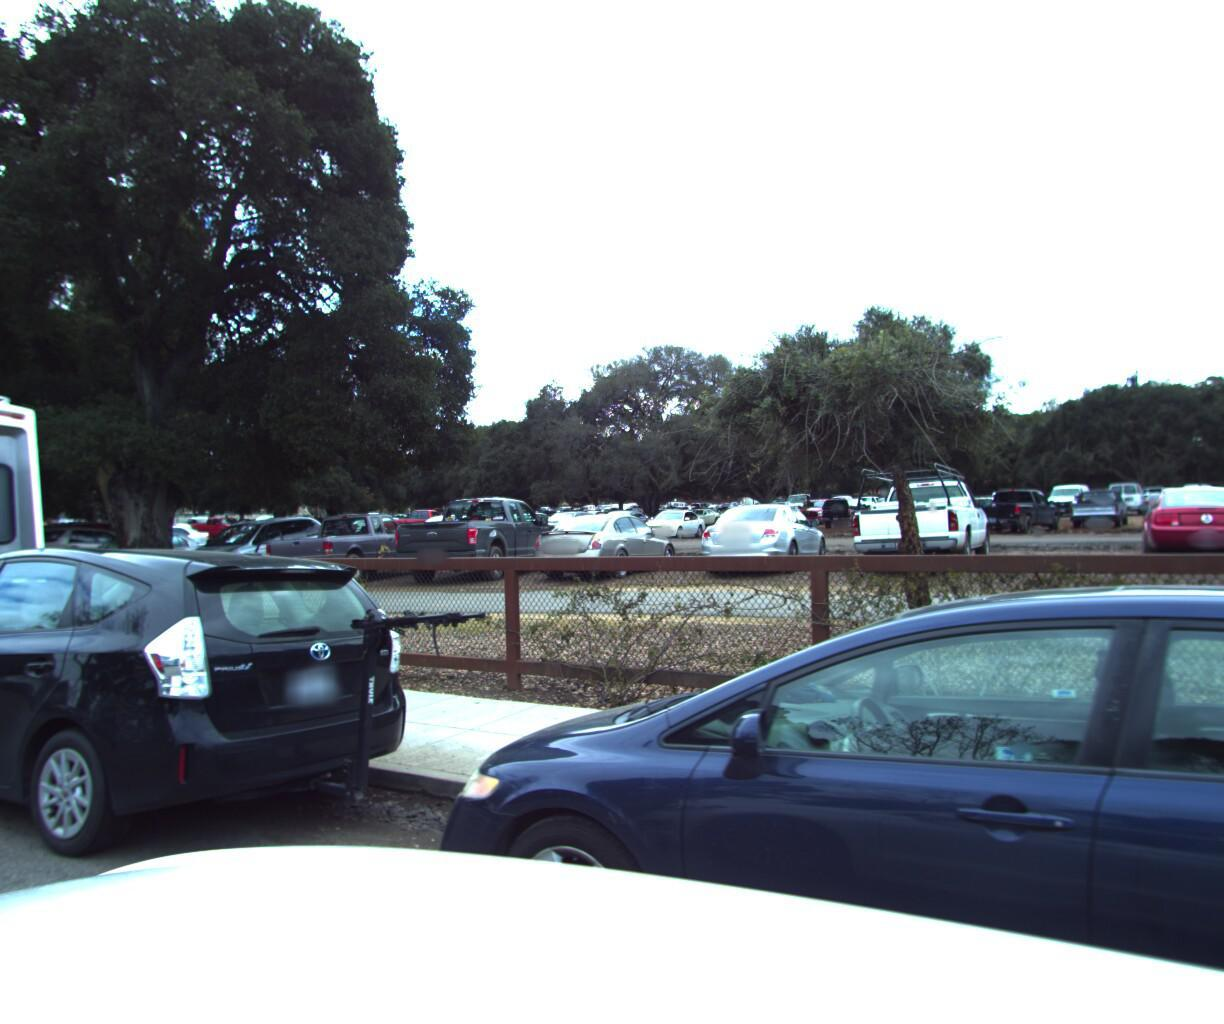car: (374, 533, 1224, 1024), (0, 519, 443, 922), (389, 487, 566, 583), (257, 504, 440, 584)
other_vehicle: (0, 311, 86, 760)
